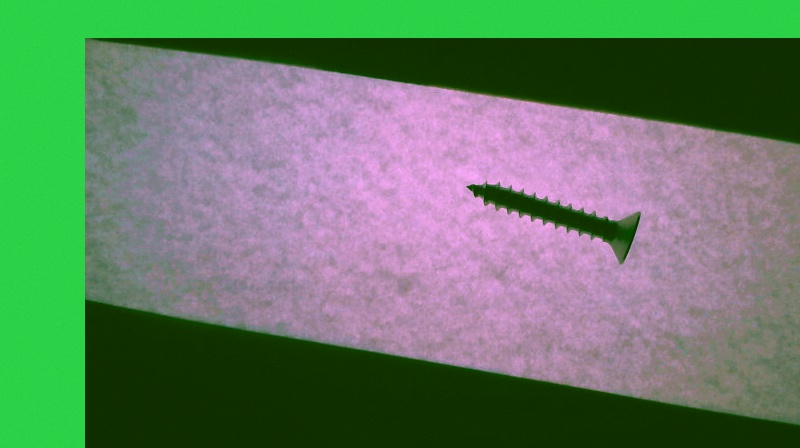S001: (464, 180, 643, 267)
